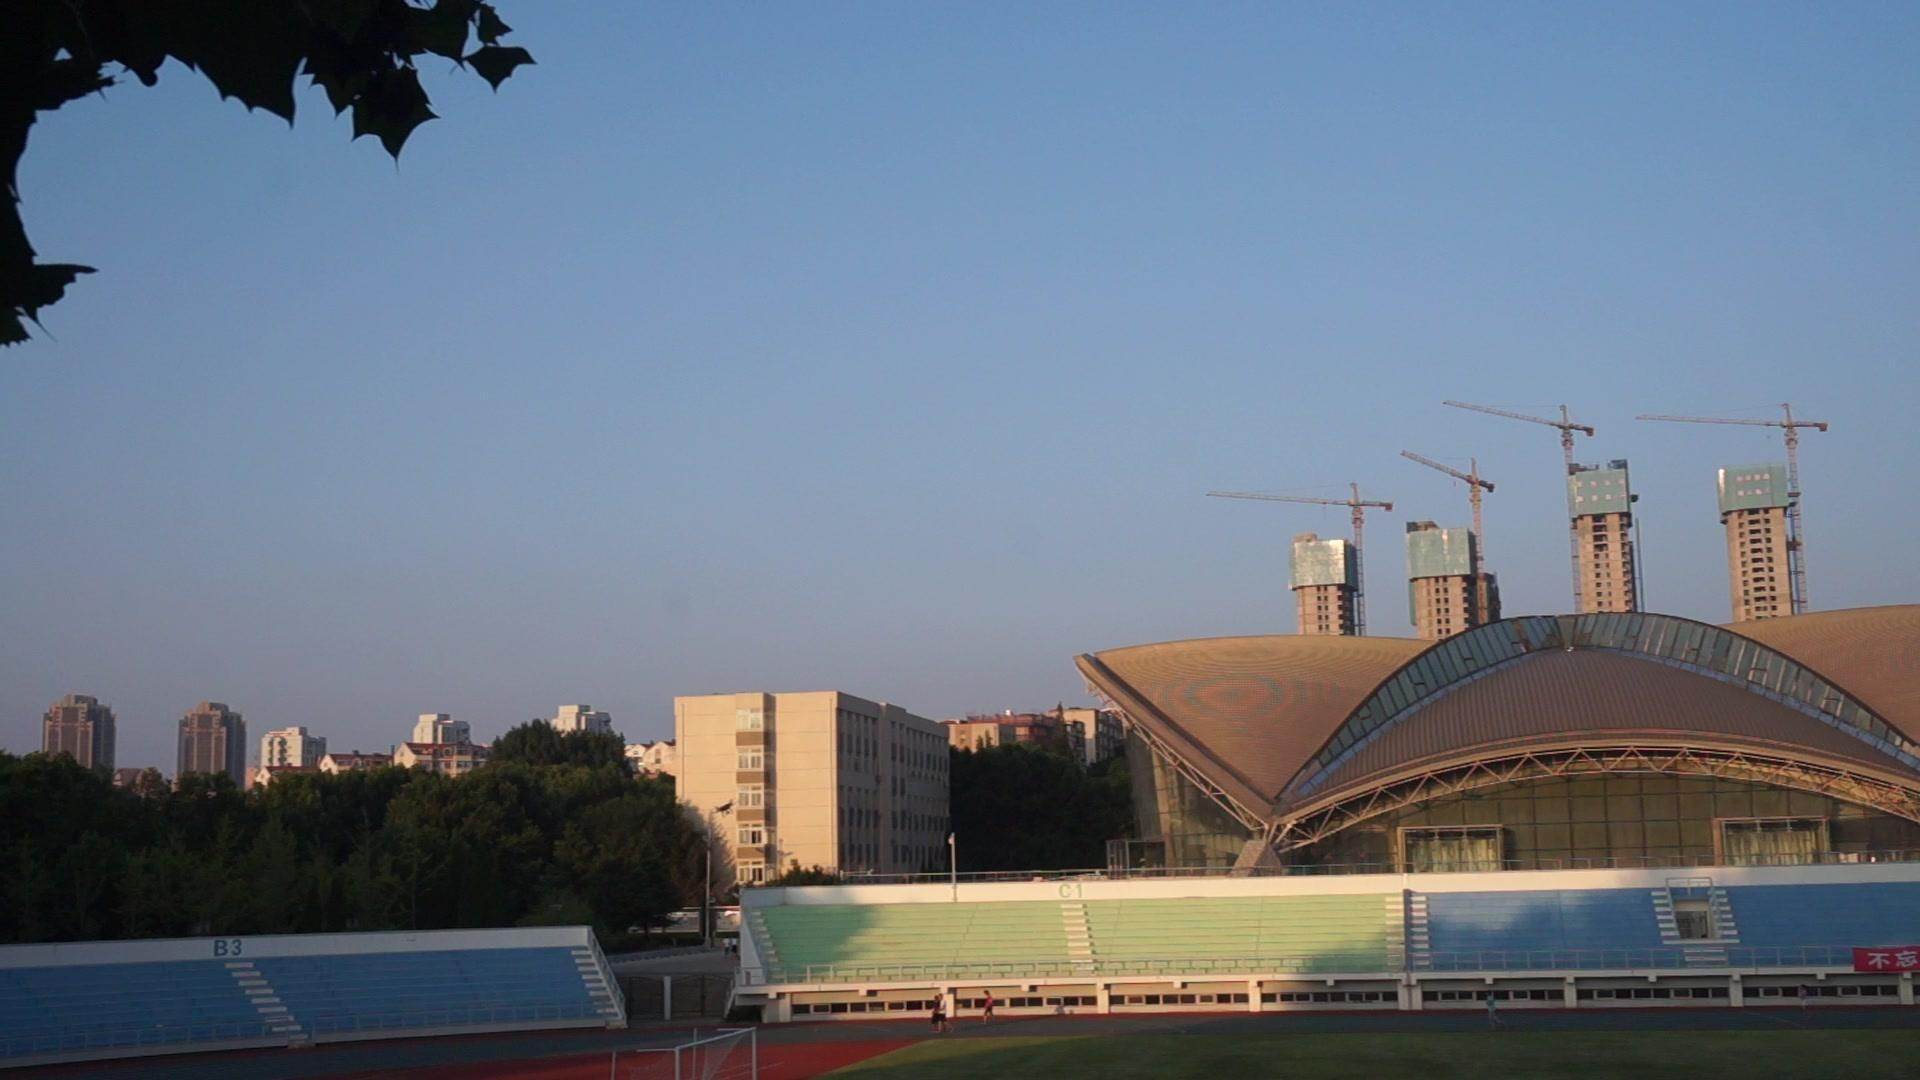UAV: (717, 800, 736, 816)
